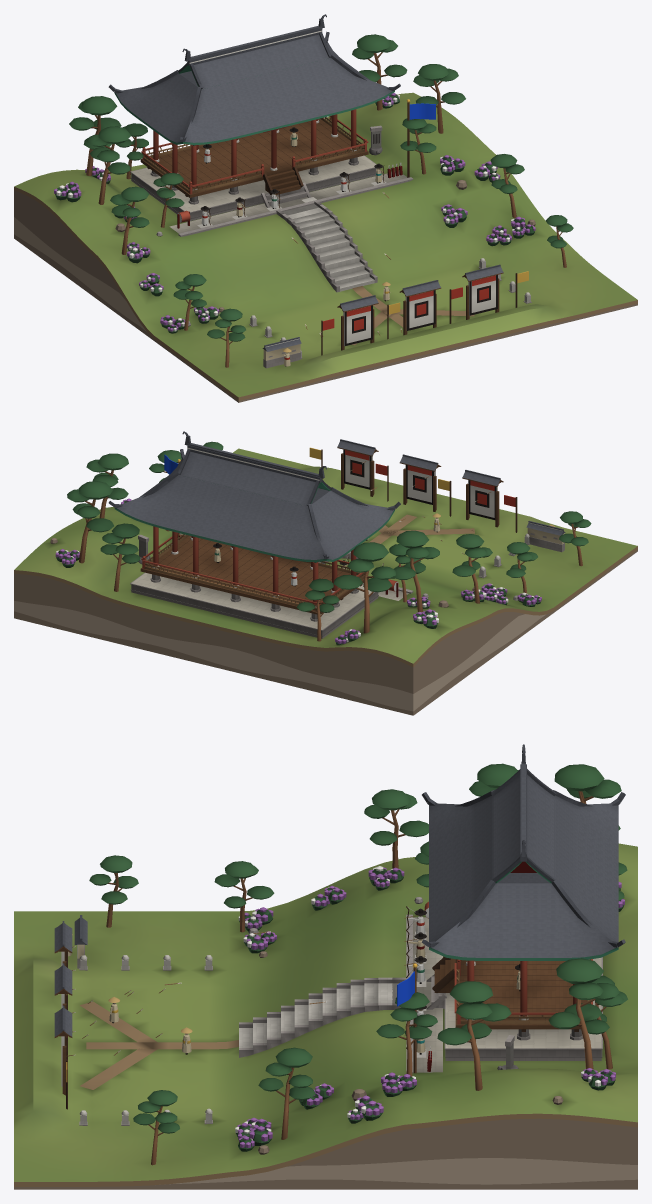
Rendered from lm_okculukpavyon.glb.
The picture shows the model from 3 angles, top to bottom: view 1: azimuth 30°, elevation 25°; view 2: azimuth 150°, elevation 25°; view 3: azimuth 270°, elevation 25°; orthographic projection. The views are drawn at different scales.
Visible parts, largest first — view 1: lm_okculukpavyon; view 2: lm_okculukpavyon; view 3: lm_okculukpavyon.
Boxes of the visible parts, x1=… form: lm_okculukpavyon: x1=14, y1=14, x2=637, y2=402; lm_okculukpavyon: x1=14, y1=431, x2=637, y2=715; lm_okculukpavyon: x1=14, y1=744, x2=637, y2=1189.
Size of the model in its own units: 2.3 by 1.04 by 2.24.
Materials: 1 (1 with a texture image).
